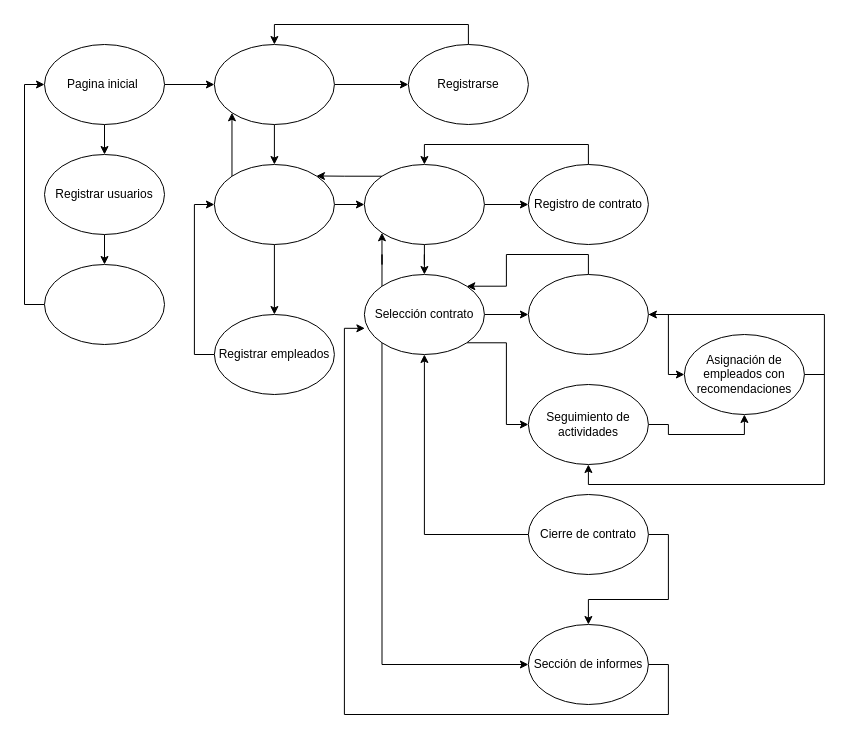
This 850x740 diagram has some shape labels left out. The shapes that lost their labels are listed below. From the top down, each one's box as (x1, y1, x2, y2) in pixels, then its label:
(213, 44, 334, 124): Inicio sesión
(213, 164, 334, 244): Pagina logueada
(363, 164, 484, 244): Pagina de contratos
(44, 264, 164, 344): Asignar roles
(527, 274, 648, 354): Inicio de proyecto
